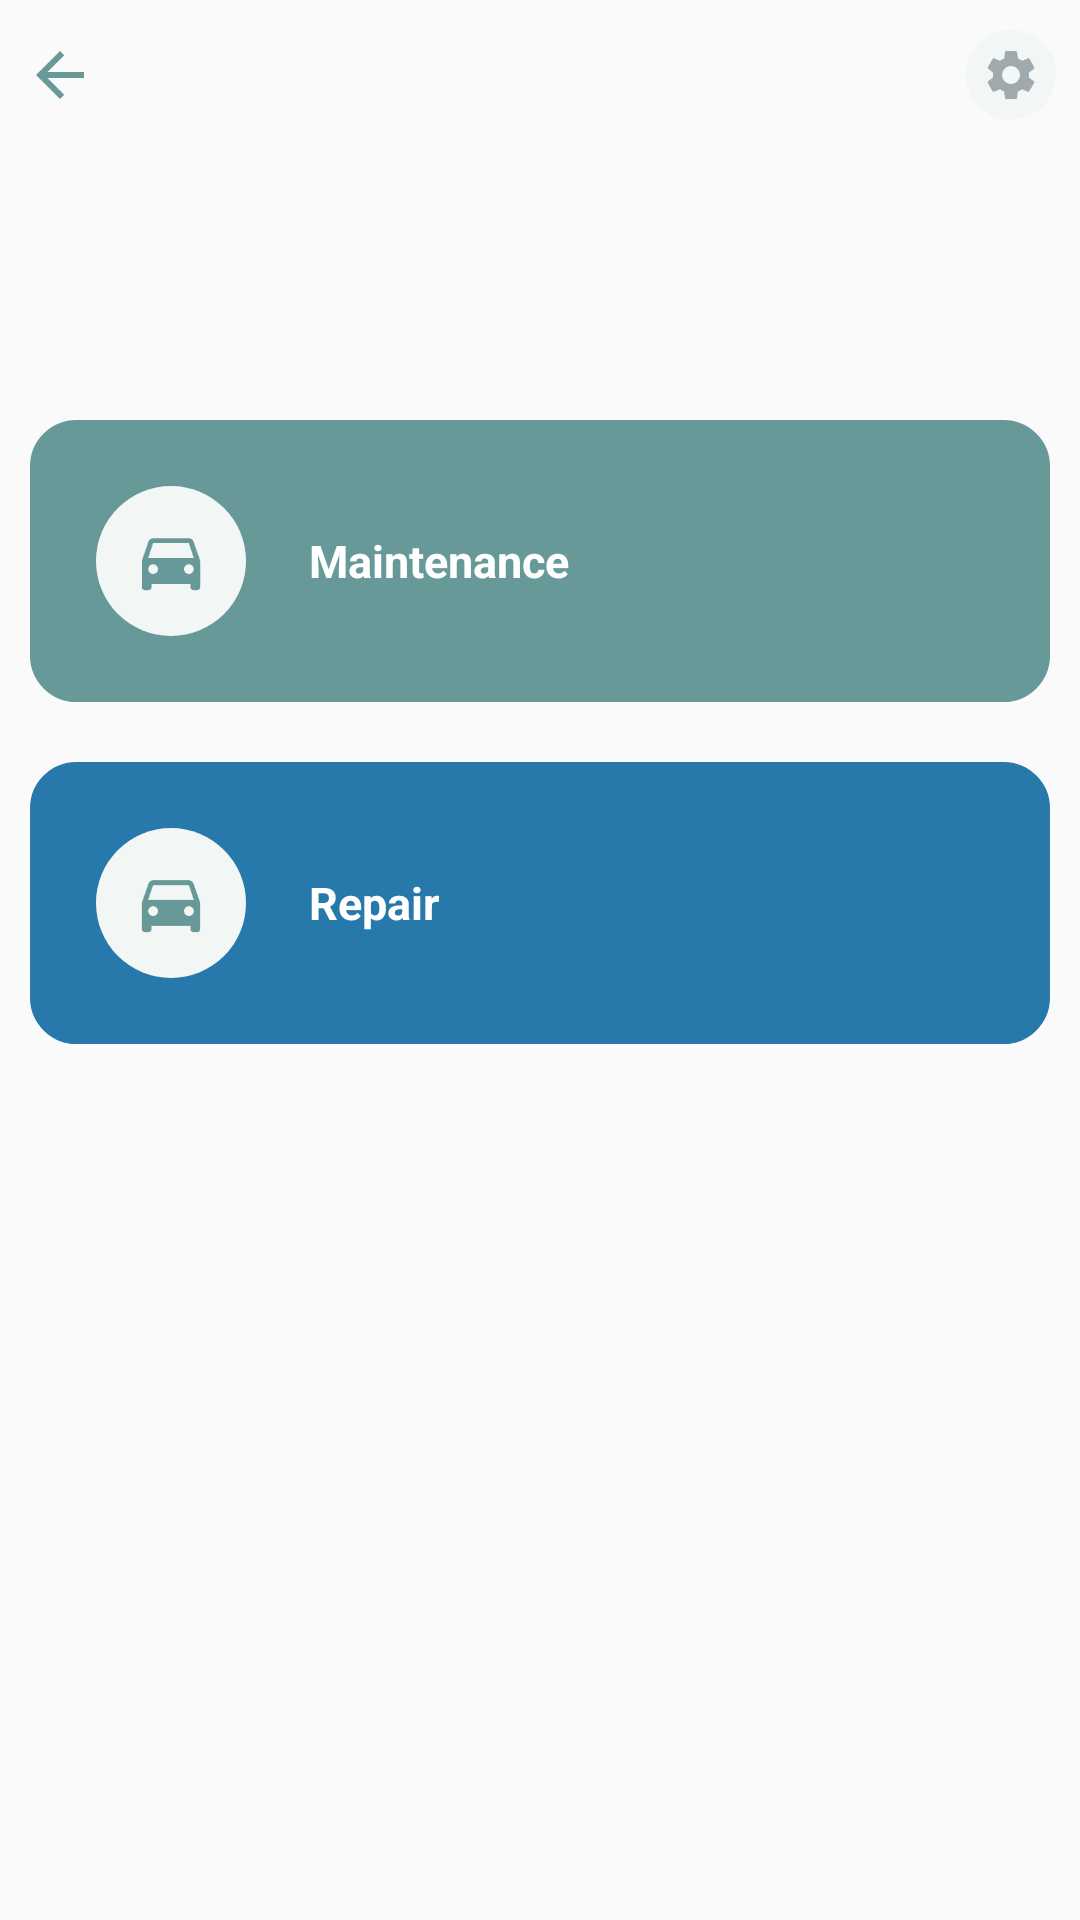

Icon click points for this 1080px x 1920px phone screenshot, format point (x, y):
directions car: point (171, 561), point (171, 903)
settings: point (1011, 75)
